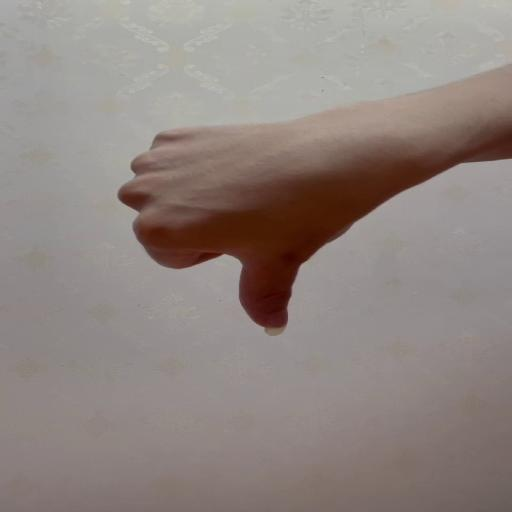thumbs_down: (117, 125, 373, 337)
